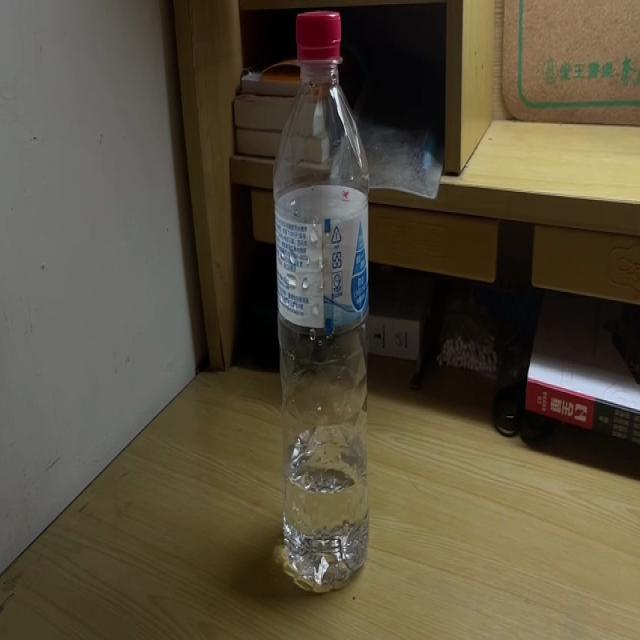Water: (276, 11, 371, 597)
